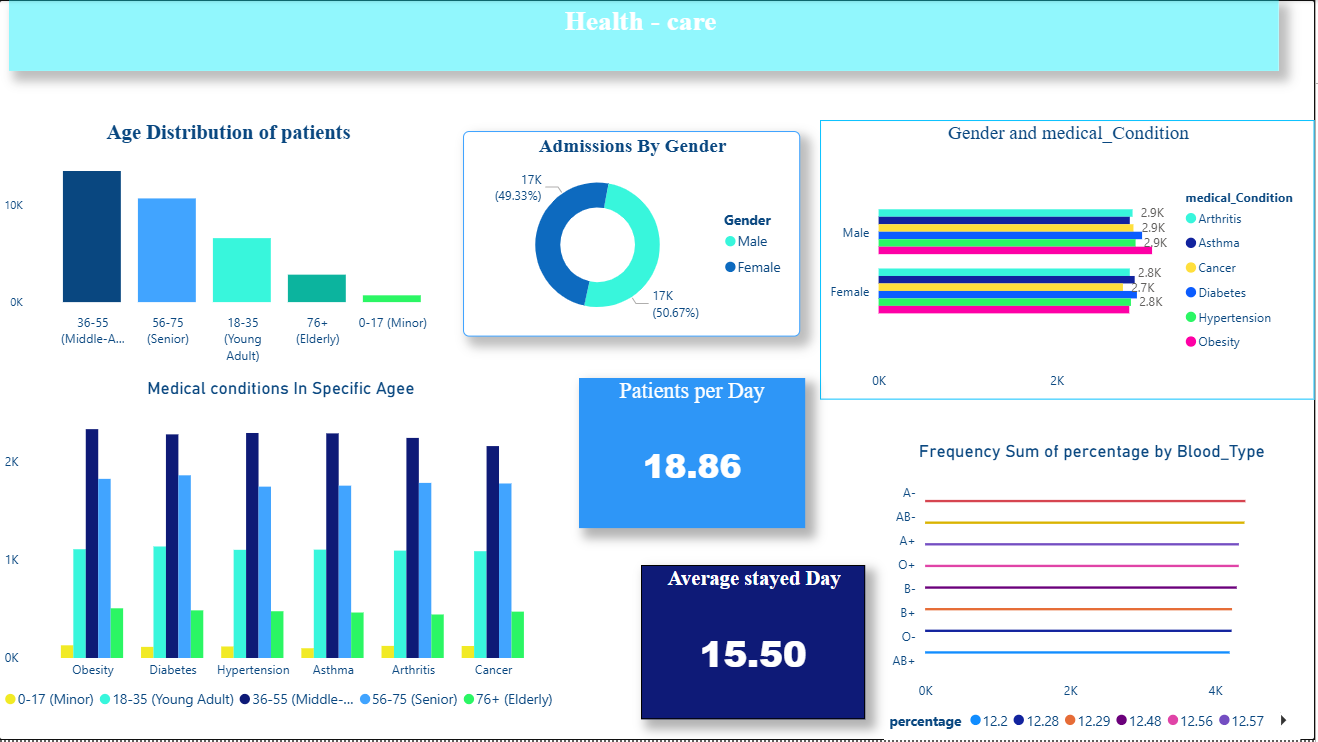

This screenshot's page, from the dashboard's own definition file:
{"tool":"powerbi","page":{"name":"Page 1","canvas":[1280,720],"ordinal":0},"visuals":[{"type":"textbox","box":[9.7,0,1235.3,69.1],"z":0},{"type":"clusteredColumnChart","title":"Age Distribution of  patients ","fields":{"Category":["hcQ1.age_group"],"Y":["Sum(hcQ1.patient_count)"]},"box":[0,116.7,446.4,244.1],"z":1000},{"type":"clusteredColumnChart","title":"Medical conditions In Specific Agee ","fields":{"Y":["Sum(hcQ2.patient_count)"],"Category":["hcQ2.medical_Condition"],"Series":["hcQ2.age_group"]},"box":[0,367.7,548.6,331.7],"z":2000},{"type":"donutChart","title":"Admissions By Gender ","fields":{"Category":["hcQ3.Gender"],"Series":["hcQ3.percentage_of_total"],"Y":["Sum(hcQ3.total_admissions)"]},"box":[451.3,127.4,327.8,200.4],"z":3000},{"type":"clusteredBarChart","title":" Gender and medical_Condition","fields":{"Category":["hcQ3  1.Gender"],"Y":["Sum(hcQ3  1.frequency)"],"Series":["hcQ3  1.medical_Condition"]},"box":[798.5,116.7,481.5,272.3],"z":4000},{"type":"clusteredBarChart","title":" Frequency  Sum of percentage by Blood_Type","fields":{"Y":["Sum(hcQ4.frequency)"],"Category":["hcQ4.Blood_Type"],"Series":["hcQ4.percentage"]},"box":[860.8,428.9,404.6,290.8],"z":5000},{"type":"card","title":"Patients per Day ","fields":{"Values":["Sum(hcQ5 2 day avg.patients_per_day)"]},"box":[564.1,367.7,219.8,145.9],"z":6000},{"type":"card","title":"Average stayed Day ","fields":{"Values":["Sum(hcQ67day avg.average_days_stayed)"]},"box":[624.4,549.5,217.9,149.8],"z":7000}]}

Visuals, with their boxes in screenshot pixels (x1, y1, x2, y2), scaled from the page's 1280x720 canvas onto the 1318x742 screenshot:
textbox: bbox=(10, 0, 1282, 71)
"Age Distribution of  patients " clusteredColumnChart: bbox=(0, 120, 460, 372)
"Medical conditions In Specific Agee " clusteredColumnChart: bbox=(0, 379, 565, 721)
"Admissions By Gender " donutChart: bbox=(465, 131, 802, 338)
" Gender and medical_Condition" clusteredBarChart: bbox=(822, 120, 1317, 401)
" Frequency  Sum of percentage by Blood_Type" clusteredBarChart: bbox=(886, 442, 1303, 741)
"Patients per Day " card: bbox=(581, 379, 807, 529)
"Average stayed Day " card: bbox=(643, 566, 867, 721)
